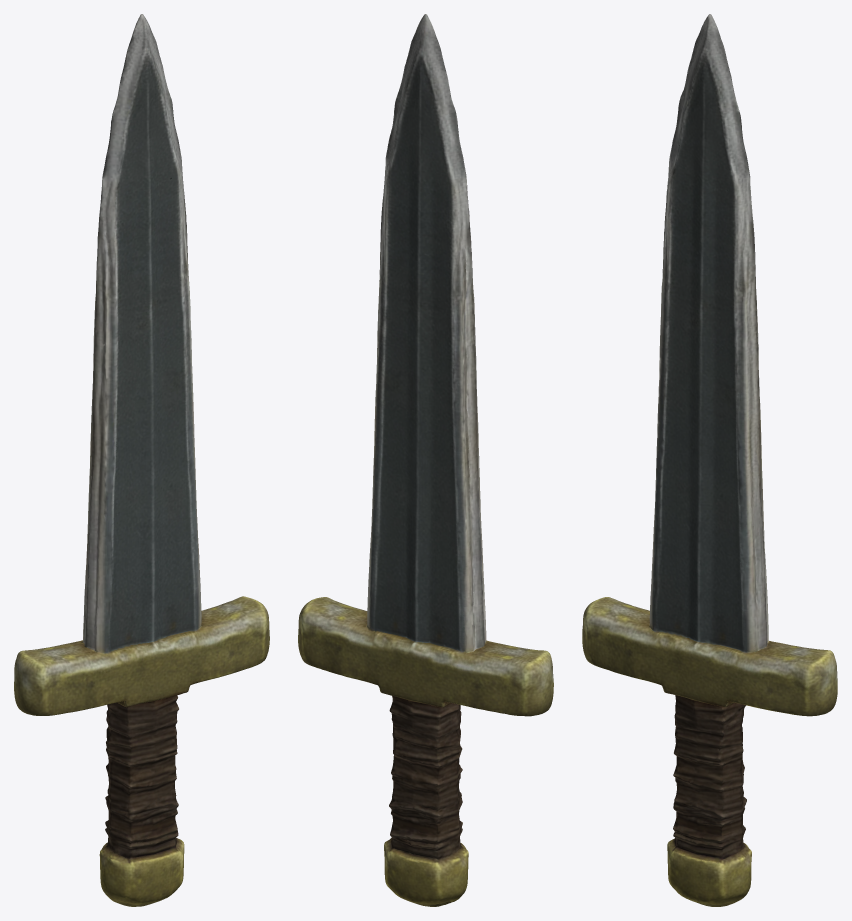
Rendered from evil_sword.glb.
3 views of the same model, side by side, from view 1: azimuth 30°, elevation 25°; view 2: azimuth 150°, elevation 25°; view 3: azimuth 330°, elevation 25° (orthographic).
Parts seen in each view (by area): view 1: evil_sword_s7_fit; view 2: evil_sword_s7_fit; view 3: evil_sword_s7_fit.
Part boxes in pixels (x1,y1,x2,y2): evil_sword_s7_fit: [14, 14, 269, 906]; evil_sword_s7_fit: [298, 14, 553, 906]; evil_sword_s7_fit: [582, 14, 837, 906].
Bounding box in the file's own units: 0.48 × 1.65 × 0.1092.
Materials: 1 (1 with a texture image).
